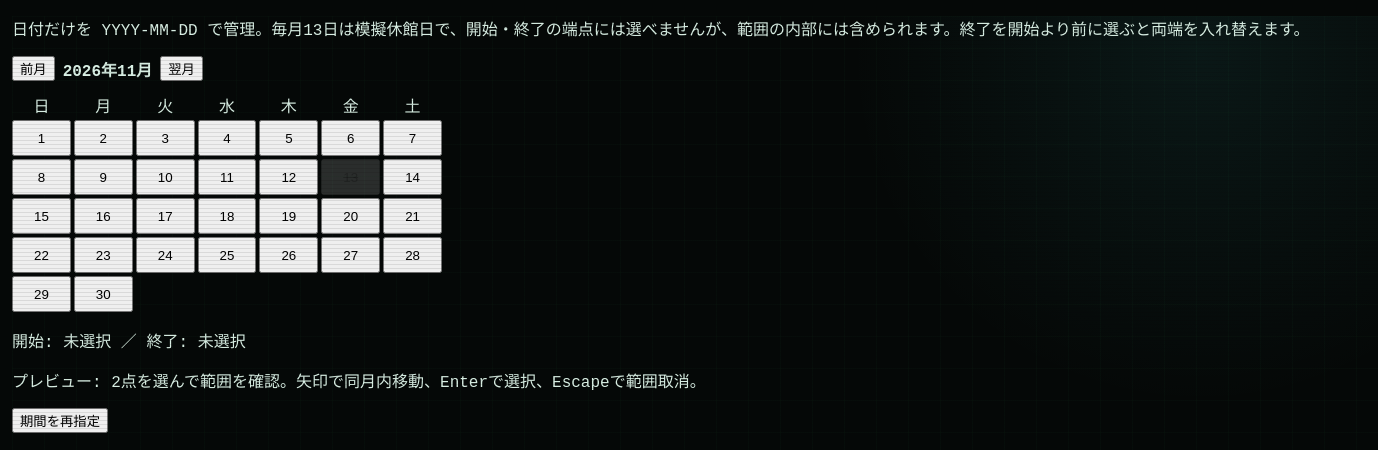
Test case: closed day is an invalid endpoint but remains inside a reverse selected range
Click the button named "2026-11-14" at (413, 177), box [383, 159, 442, 195]
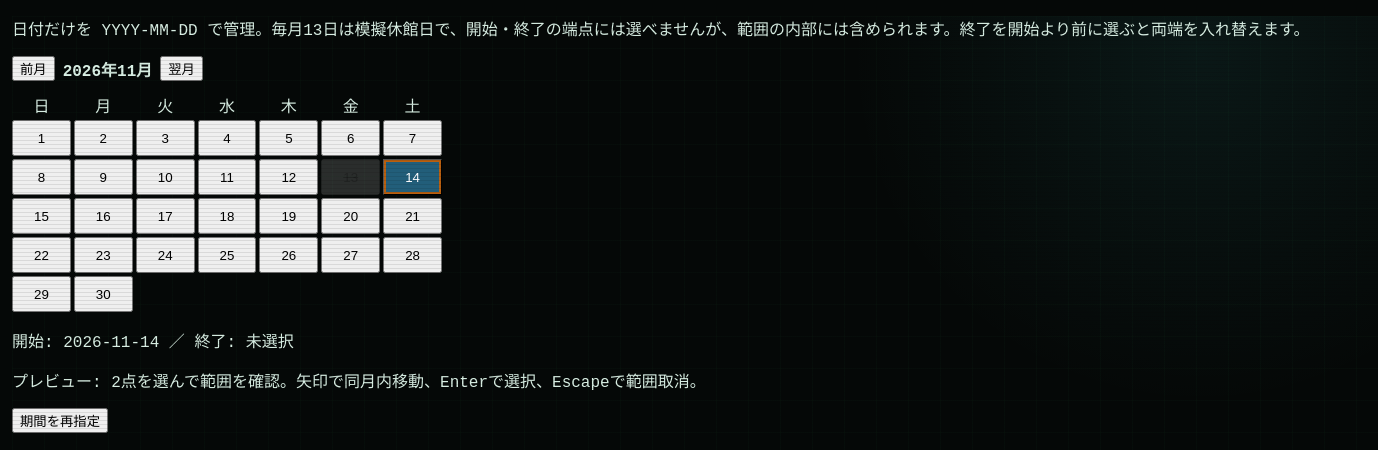
Click the button named "2026-11-12" at (289, 177), box [259, 159, 318, 195]
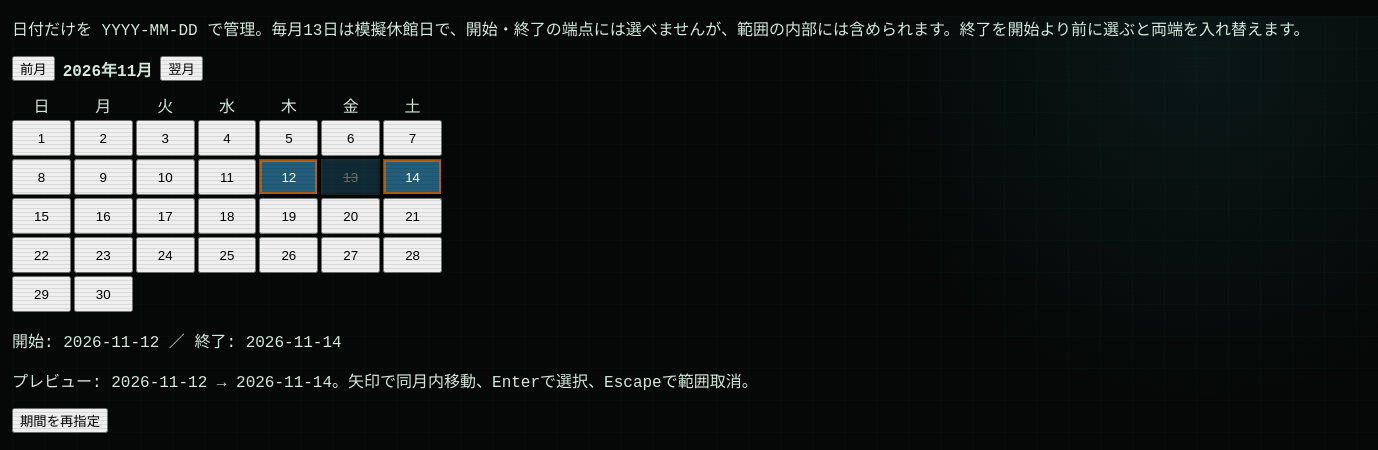
Expected: the button named "2026-11-13 休館日" is disabled, [321, 159, 380, 195]
Expected: the message reads "開始: 2026-11-12 ／ 終了: 2026-11-14", [12, 334, 342, 352]
